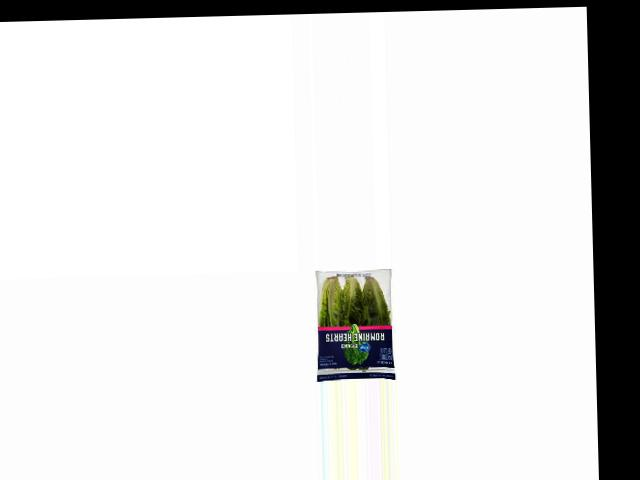lettuce: (310, 271, 398, 379)
